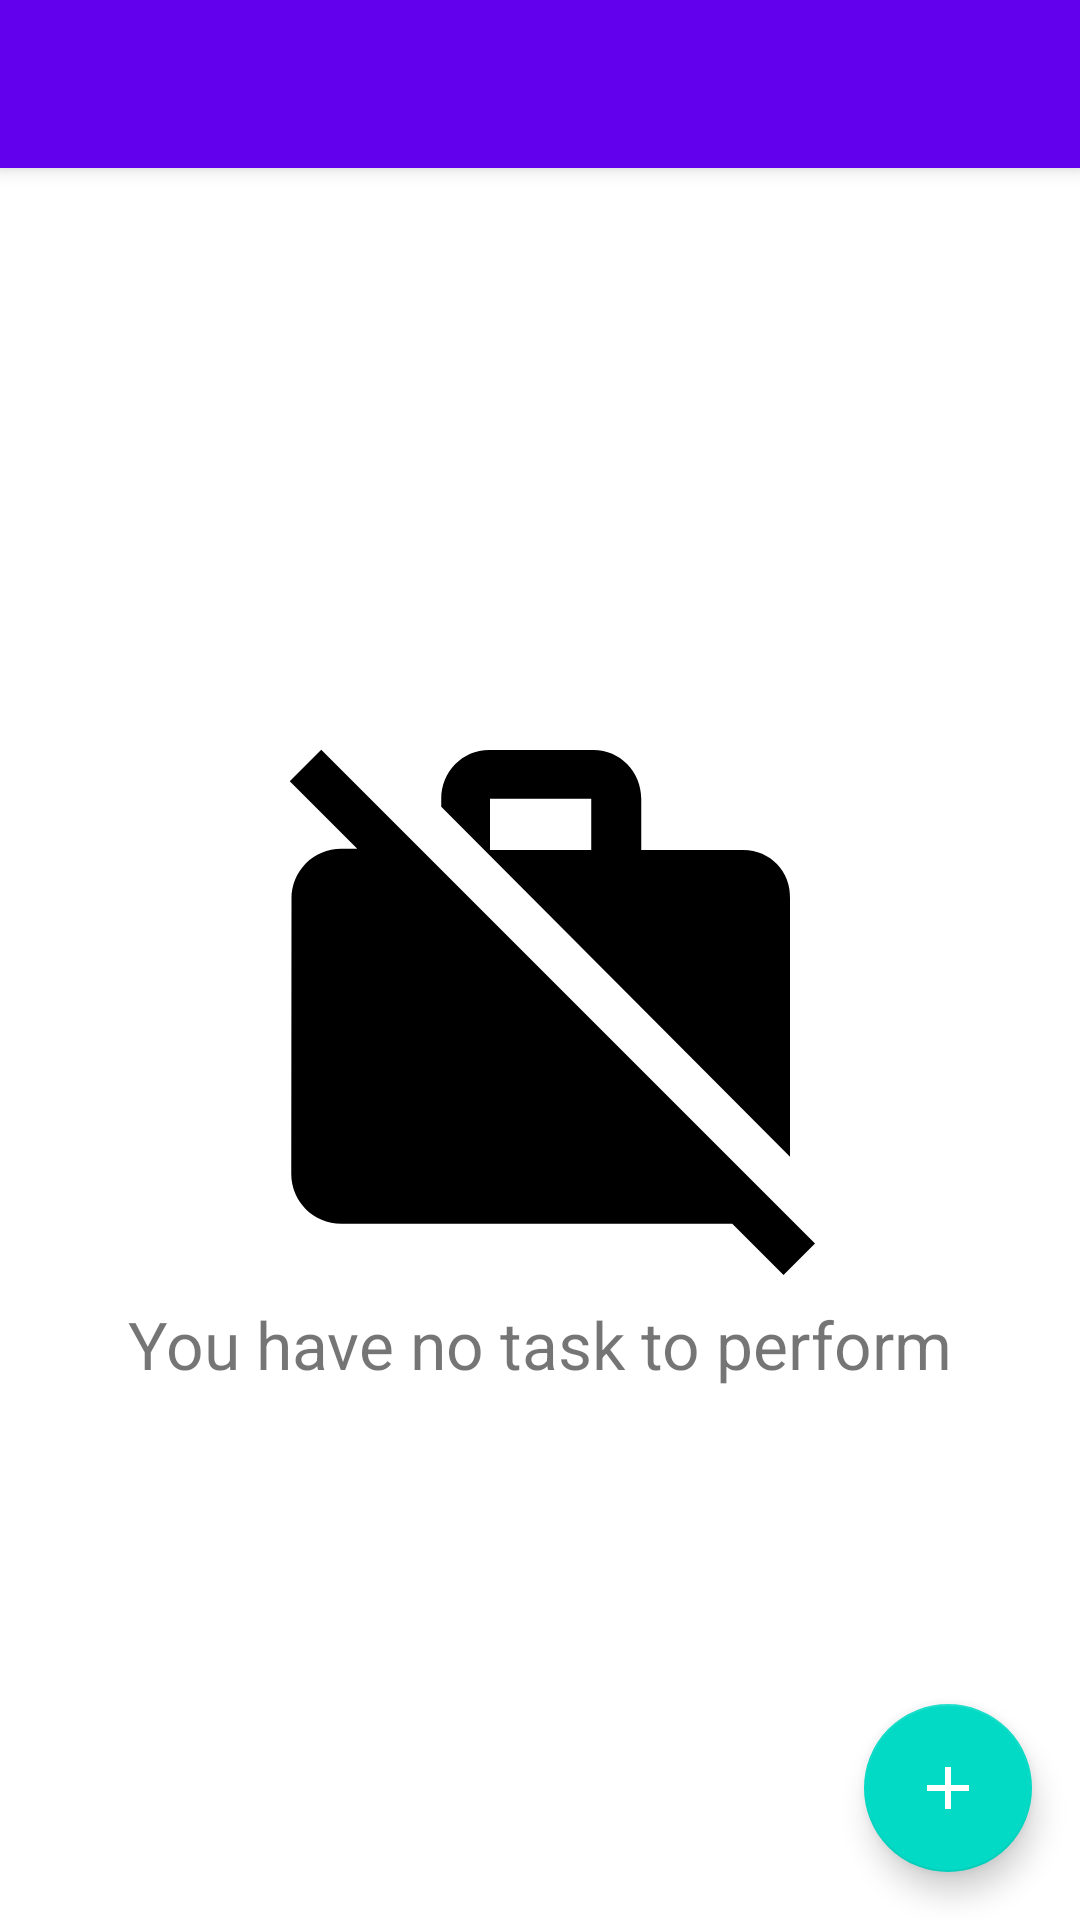

Named icons in this screenshot (1080 × 1920) and their centers, (x,y):
Add a task: (948,1788)
